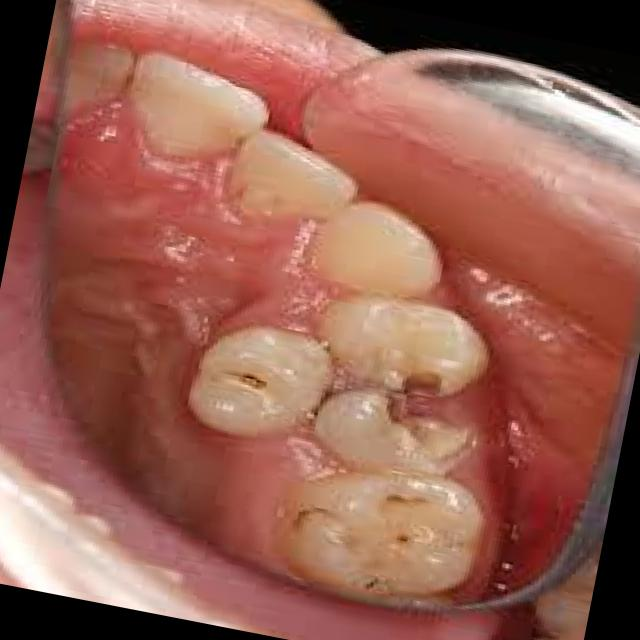Caries: (246, 376, 267, 384), (297, 511, 310, 518), (387, 497, 405, 501)
Cavity: (386, 398, 469, 459), (402, 373, 442, 395)
Tooth: (281, 470, 486, 596), (323, 293, 490, 395), (190, 325, 335, 431), (134, 48, 270, 159), (320, 388, 477, 480), (323, 204, 443, 299), (232, 131, 358, 218), (65, 41, 132, 118)
